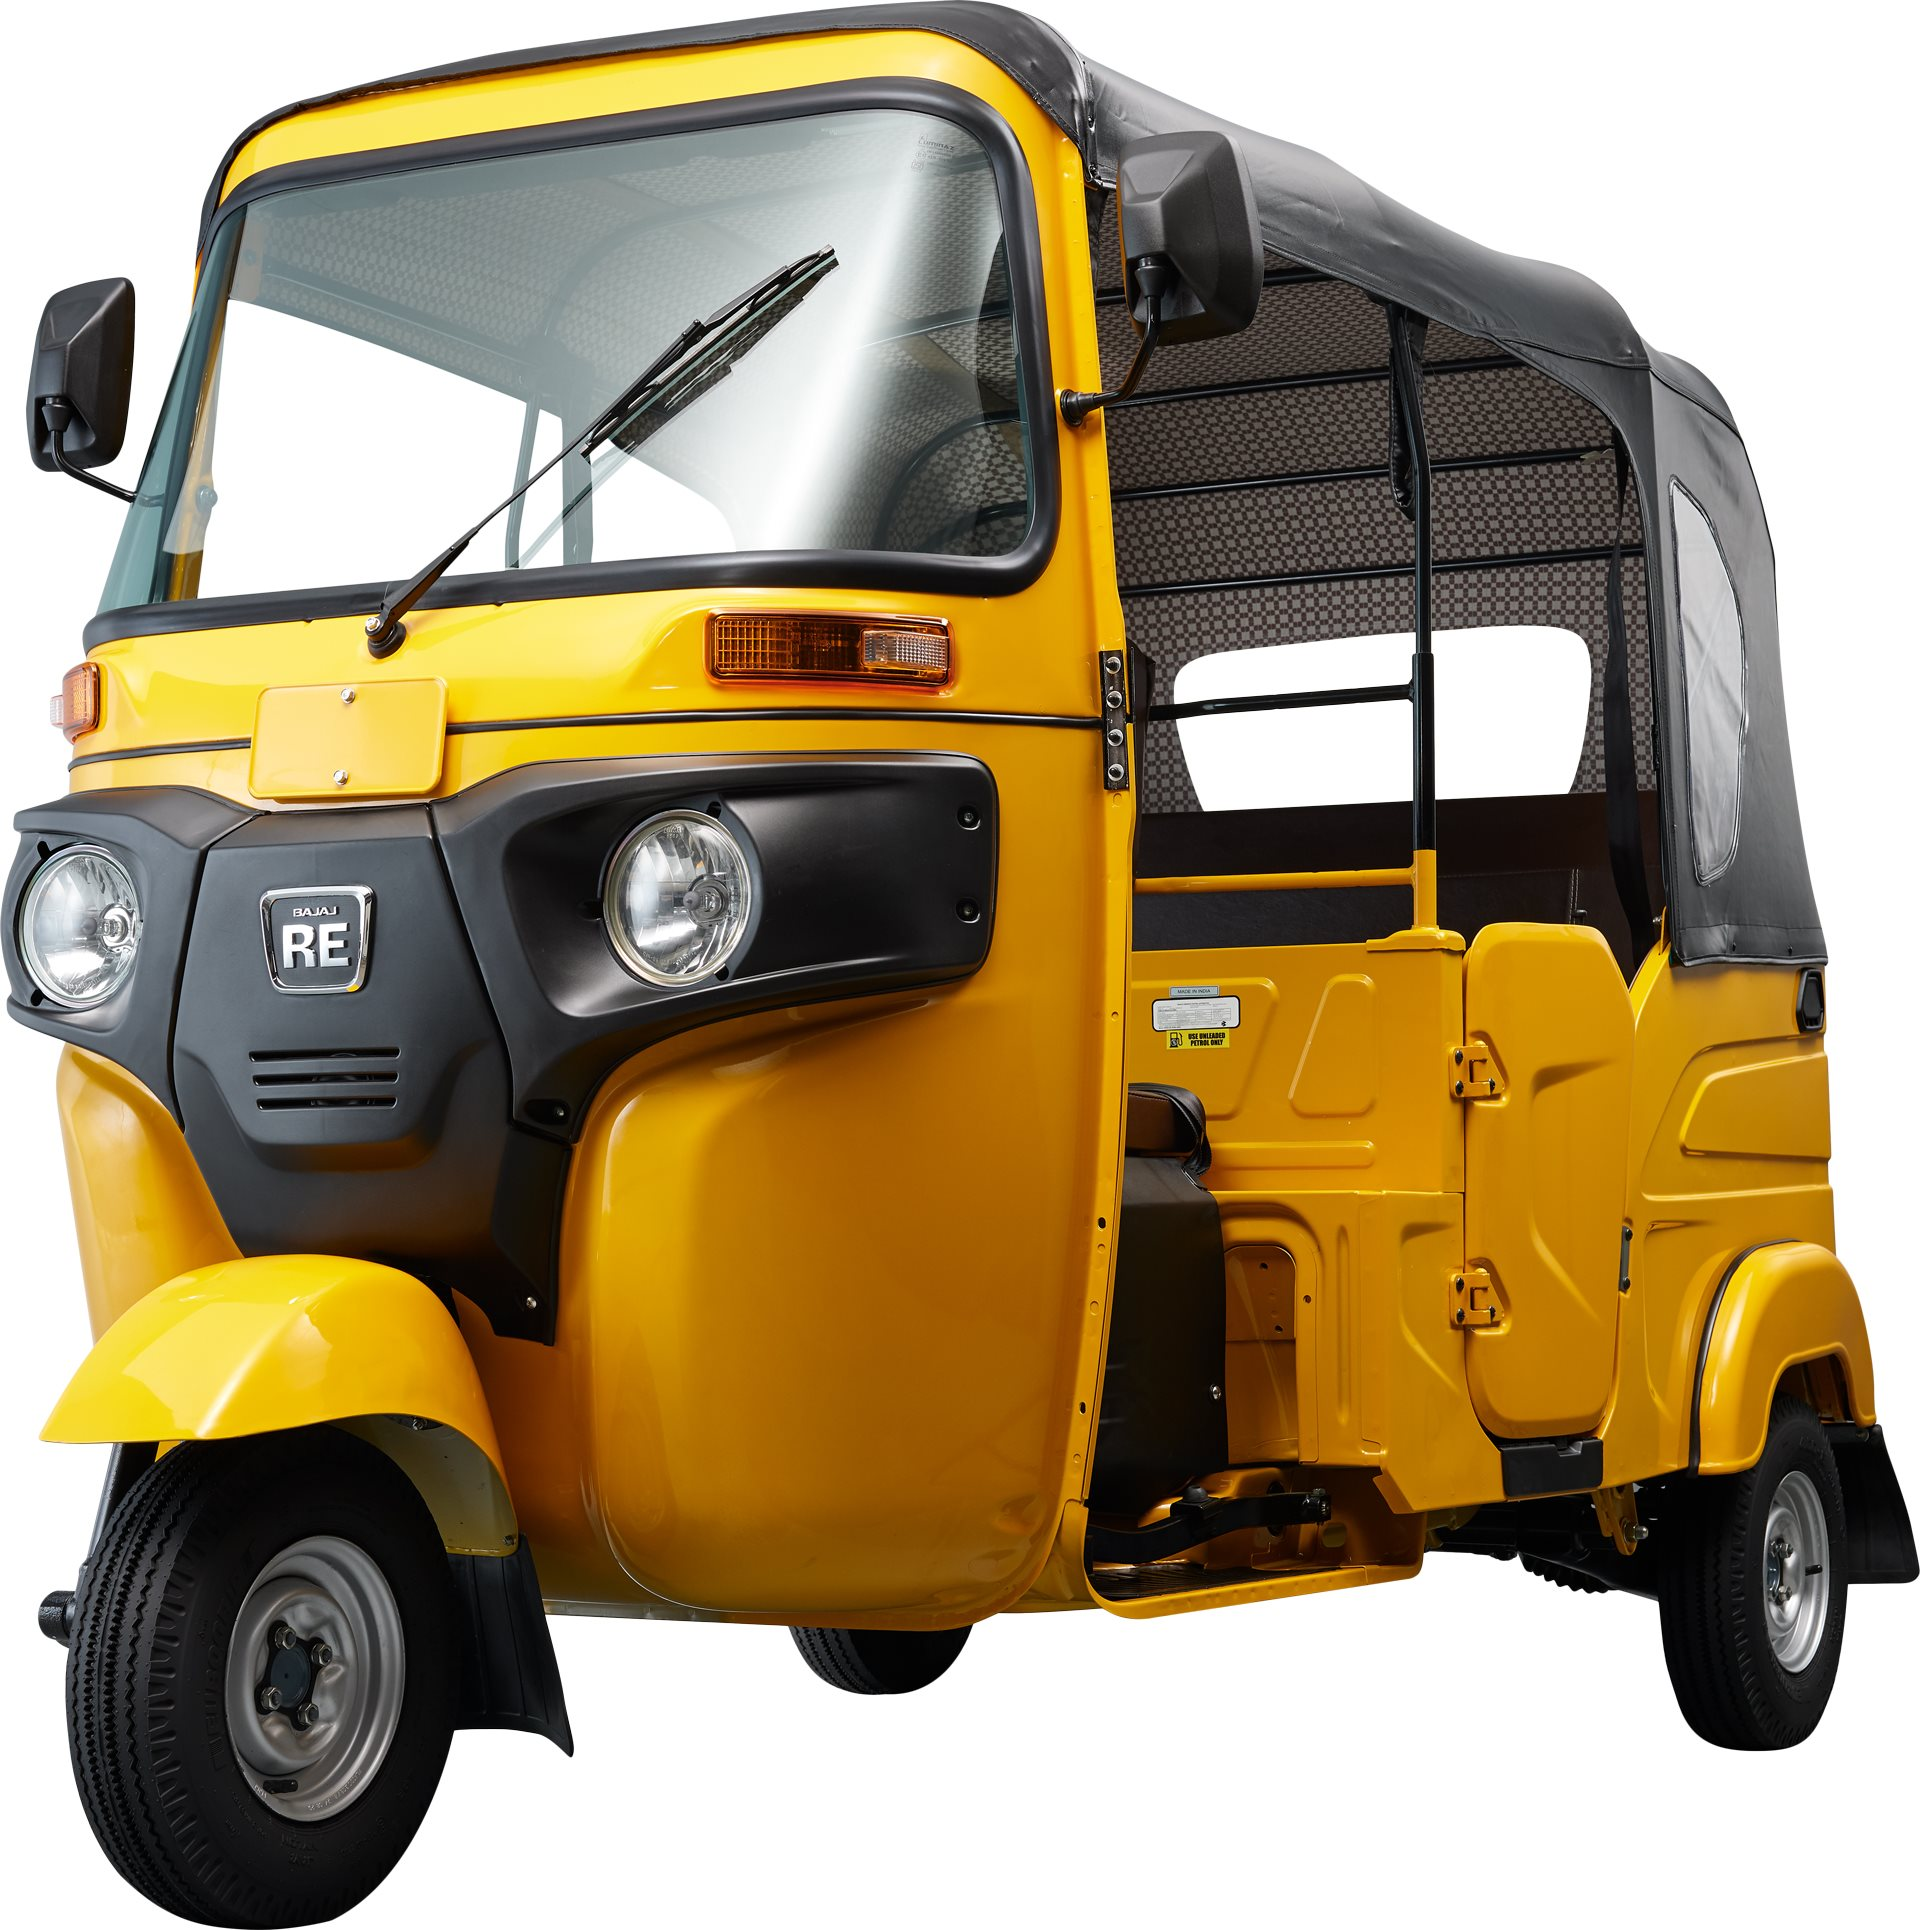threewheel: (2, 2, 1920, 1930)
